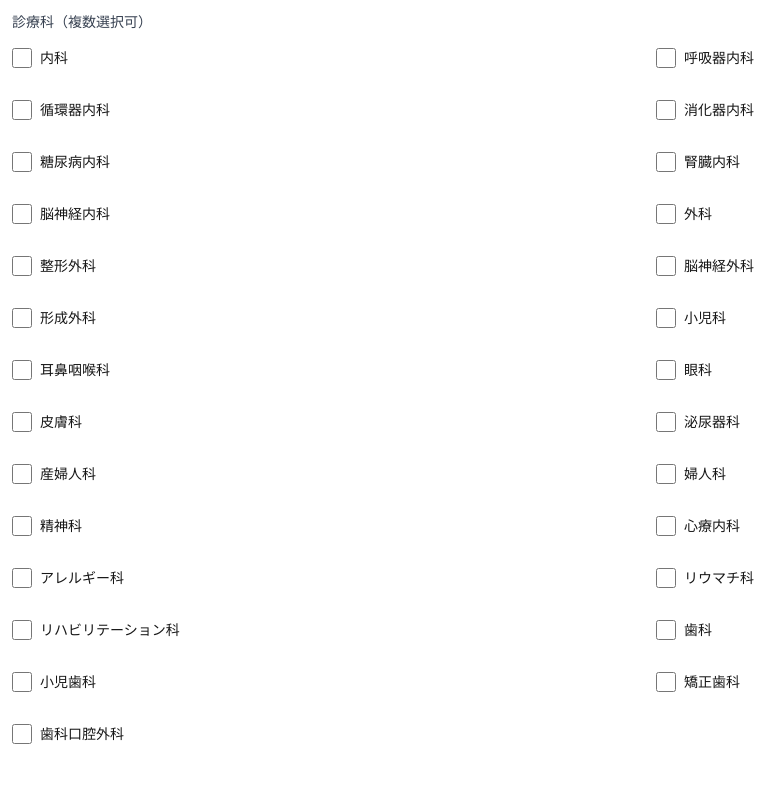
Test case: 診療科を複数選び、個別に解除できる
Click the checkbox labelled "耳鼻咽喉科" at (22,370), box [12,360,32,380]
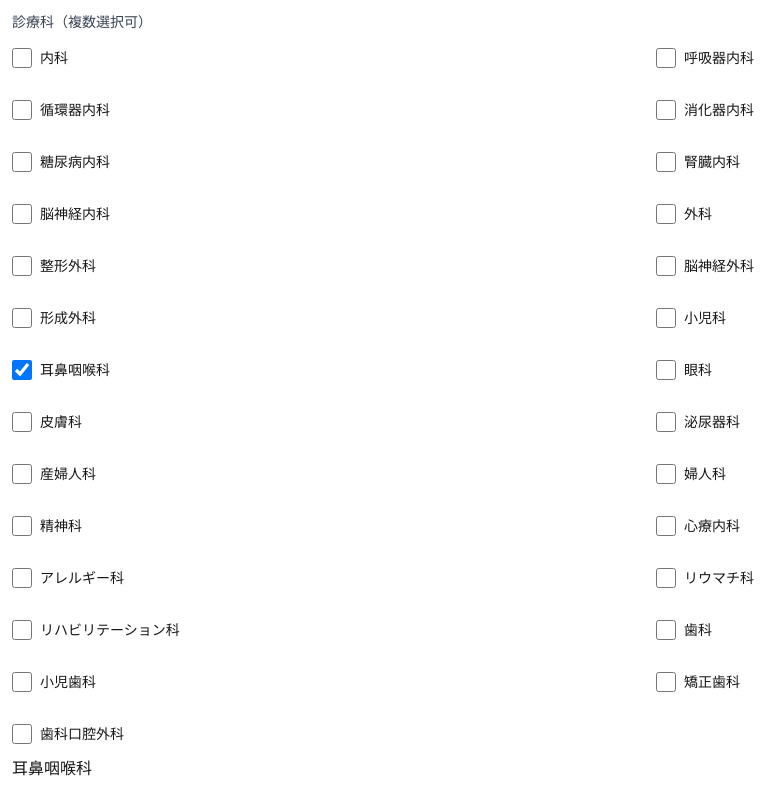
Click the checkbox labelled "内科" at (22,58), box [12,48,32,68]
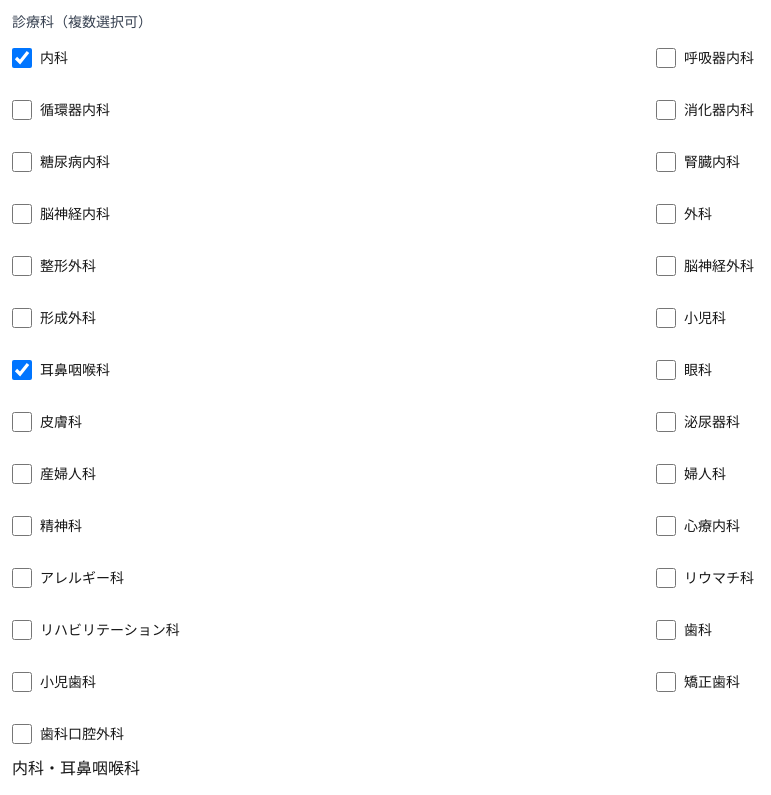
Expected: the text "内科・耳鼻咽喉科" is shown, [12,758,140,778]
Click the checkbox labelled "内科" at (22,58), box [12,48,32,68]
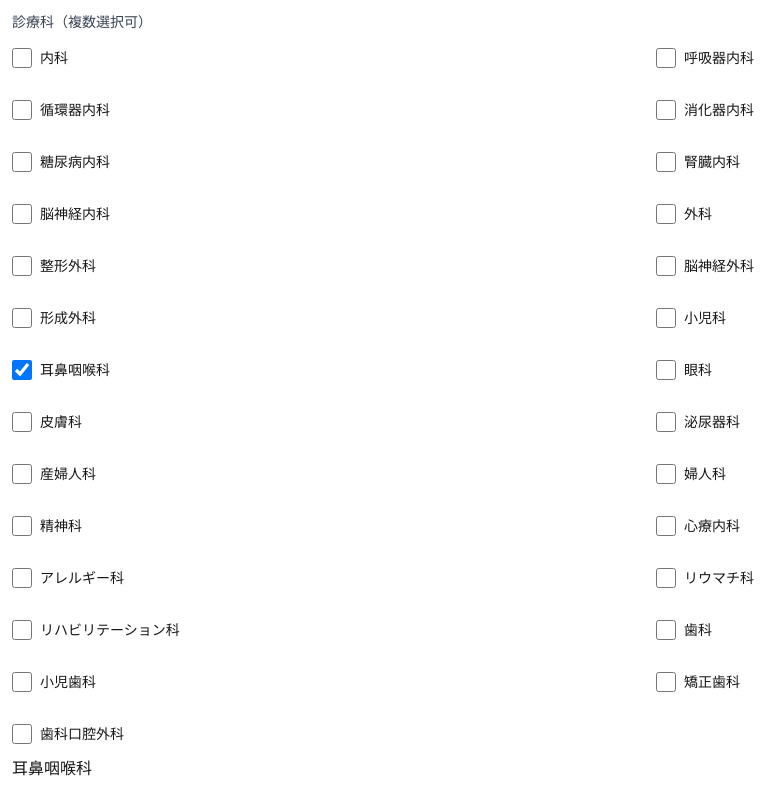
Expected: the checkbox labelled "耳鼻咽喉科" is checked, [12,360,32,380]
Expected: the text "耳鼻咽喉科" is shown, [12,758,92,778]
